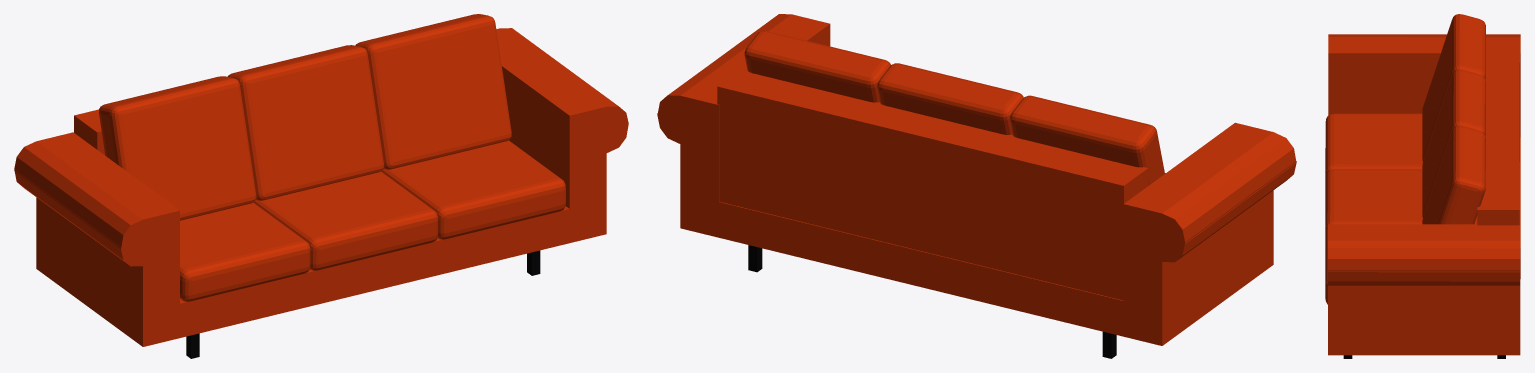
The model's file is Couch.gltf.
The picture shows the model from 3 angles, left to right: view 1: azimuth 30°, elevation 25°; view 2: azimuth 150°, elevation 25°; view 3: azimuth 270°, elevation 25°; orthographic projection. The views are drawn at different scales.
Visible parts, largest first — view 1: node-0; view 2: node-0; view 3: node-0.
Boxes of the visible parts, x1=… form: node-0: x1=14, y1=14, x2=628, y2=358; node-0: x1=657, y1=14, x2=1296, y2=358; node-0: x1=1325, y1=14, x2=1520, y2=358.
Bounding box in the file's own units: 2.71 × 1.06 × 1.
